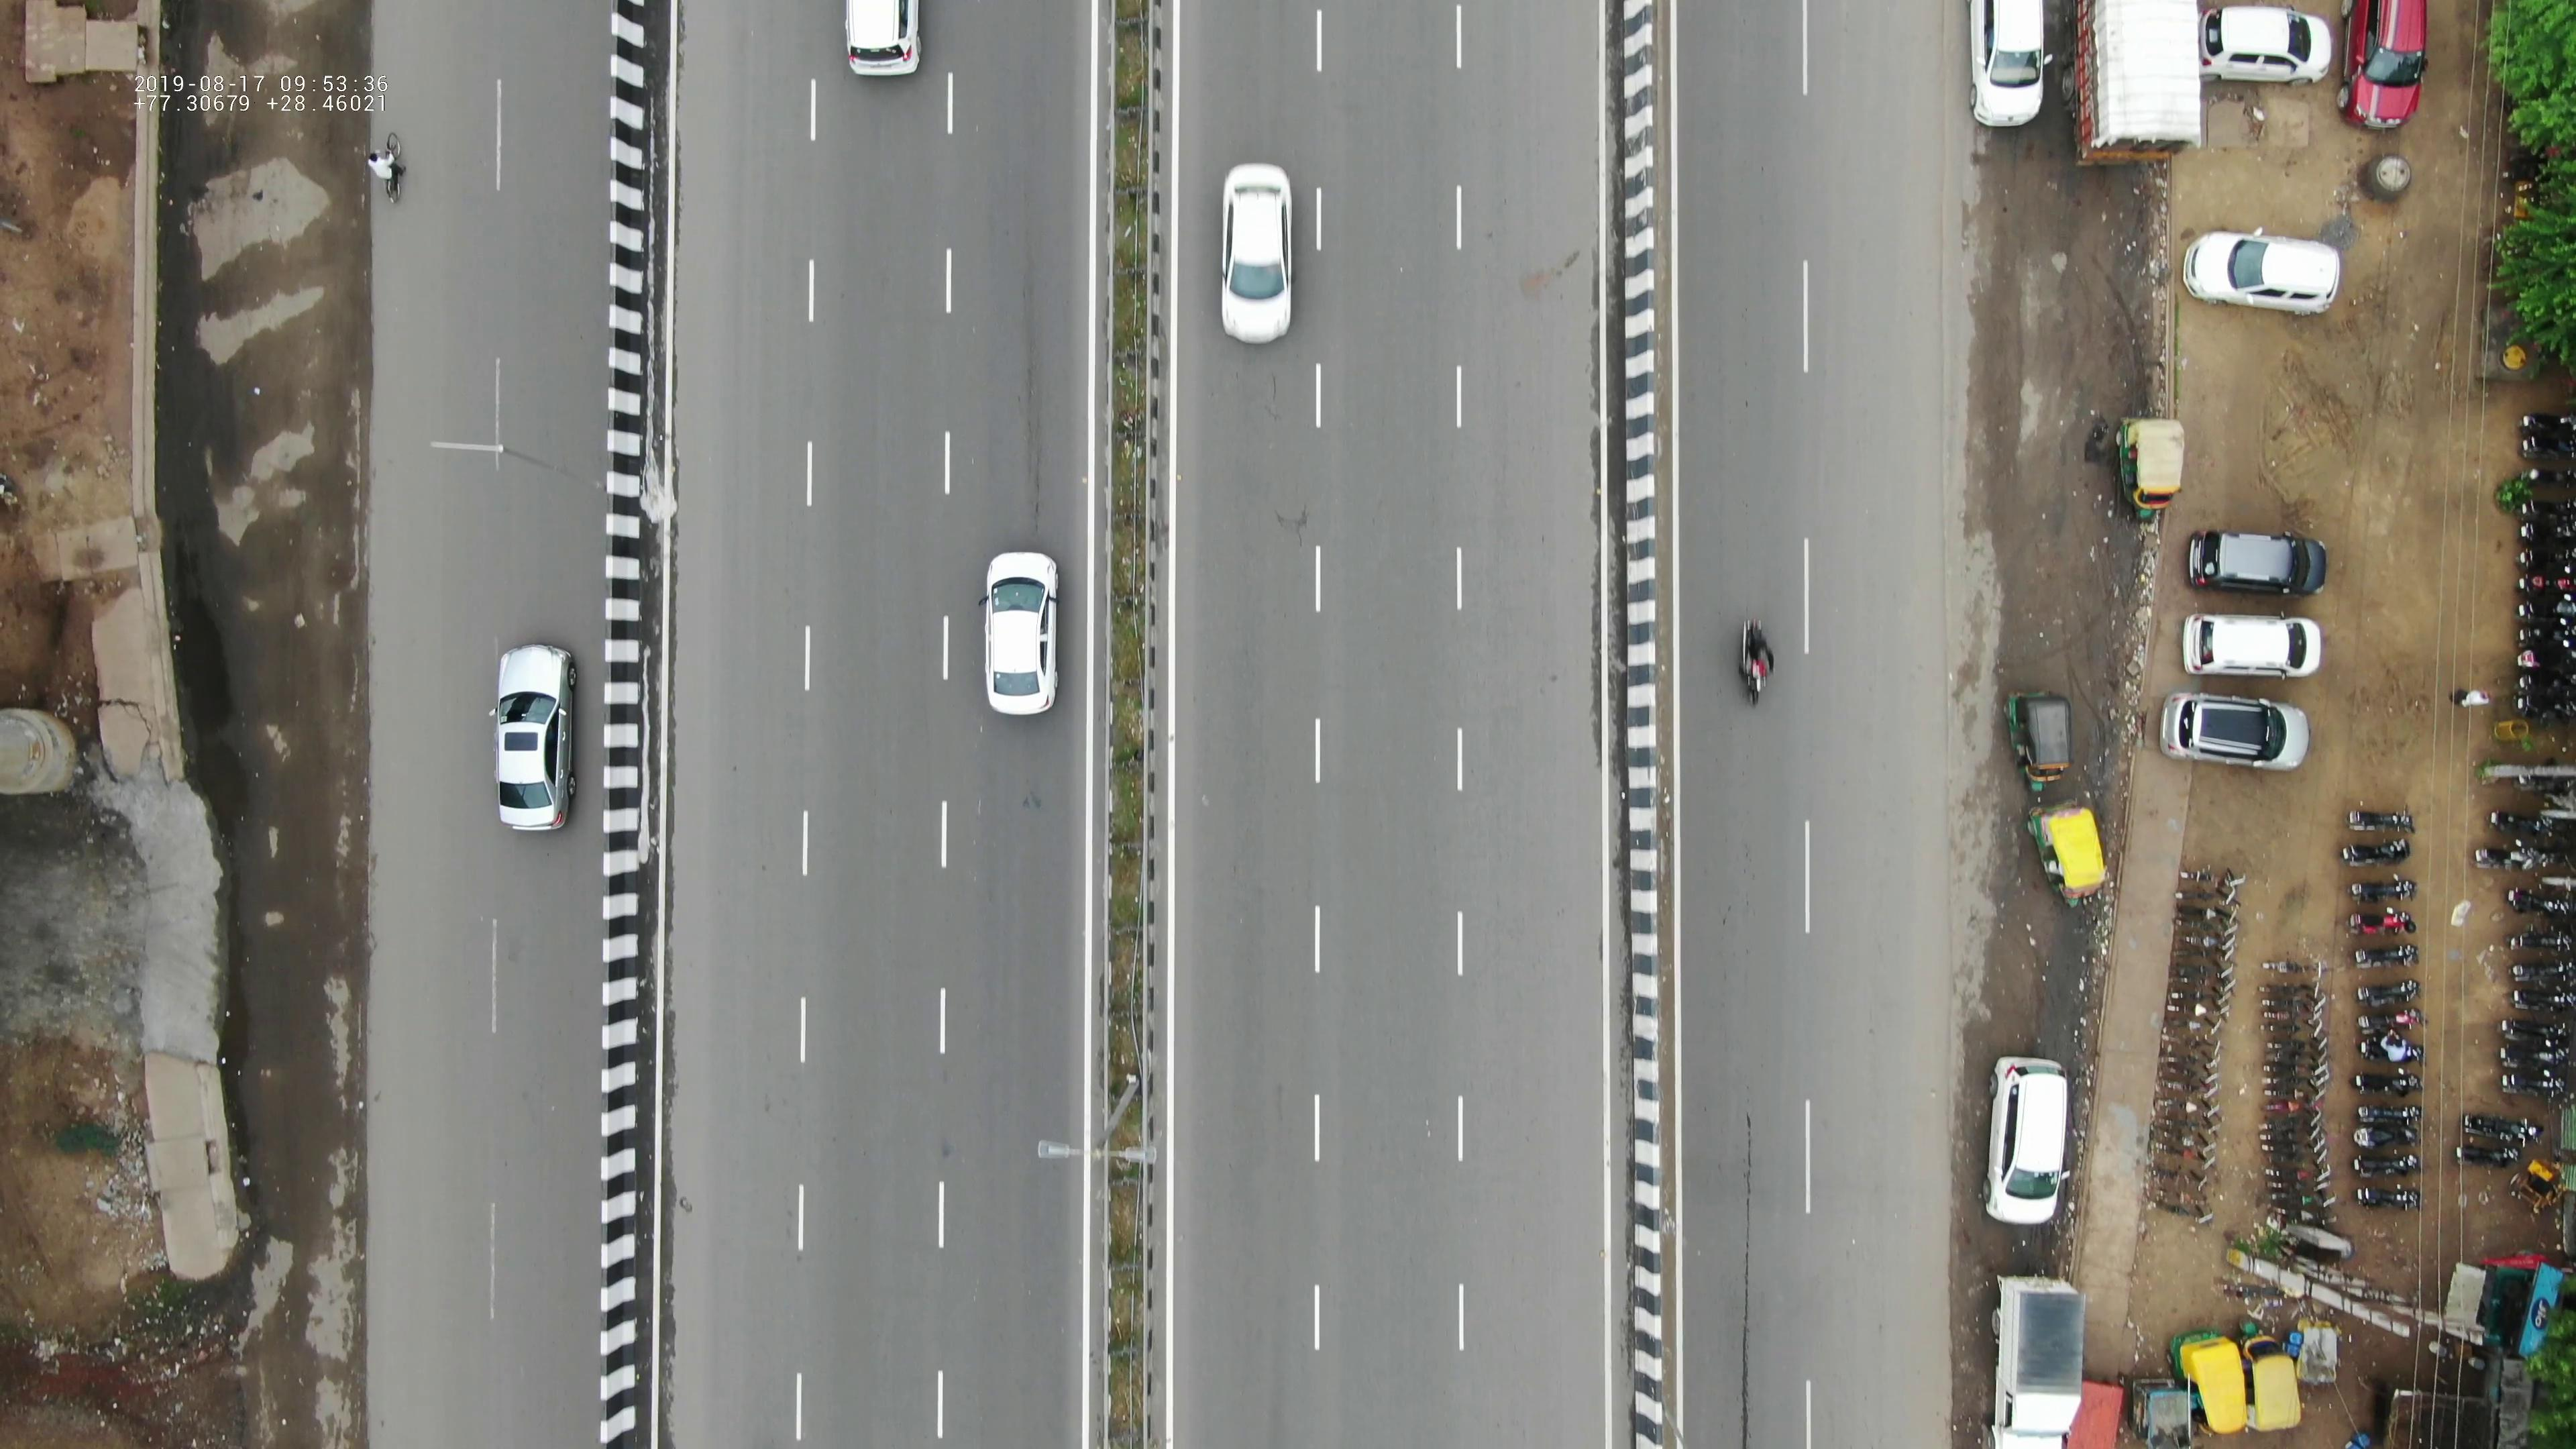Muddy_road: (154, 446, 375, 819), (219, 874, 377, 1304), (159, 120, 372, 418), (1987, 147, 2162, 409), (1989, 472, 2141, 679), (2013, 913, 2102, 1044)
Ravelling: (1716, 1040, 1773, 1251), (1721, 1253, 1769, 1449)
